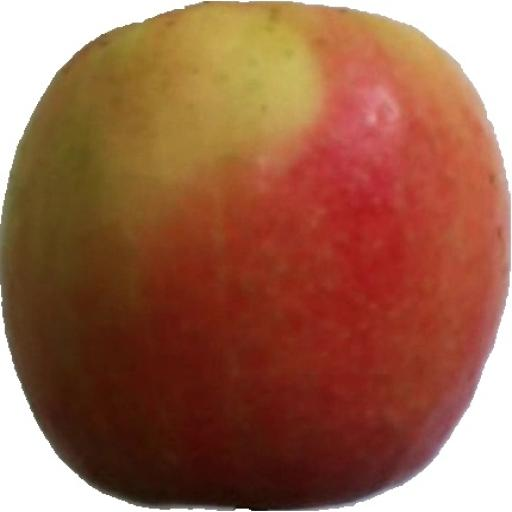apple-ripe: (1, 3, 512, 512)
